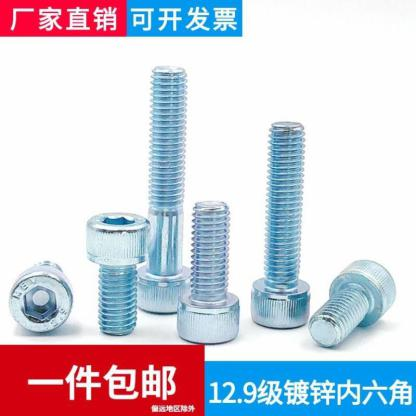FOD: (130, 64, 198, 318), (250, 120, 312, 331), (176, 199, 242, 346), (84, 210, 152, 338), (307, 259, 396, 349), (9, 258, 74, 334)
